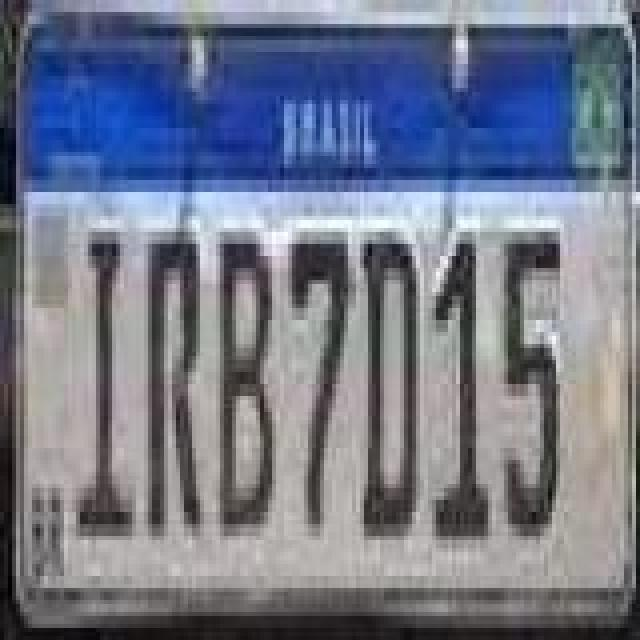1: (436, 224, 492, 544)
5: (504, 230, 568, 538)
7: (290, 230, 350, 538)
B: (220, 230, 276, 538)
D: (360, 230, 424, 538)
I: (74, 224, 134, 544)
R: (146, 230, 206, 538)
